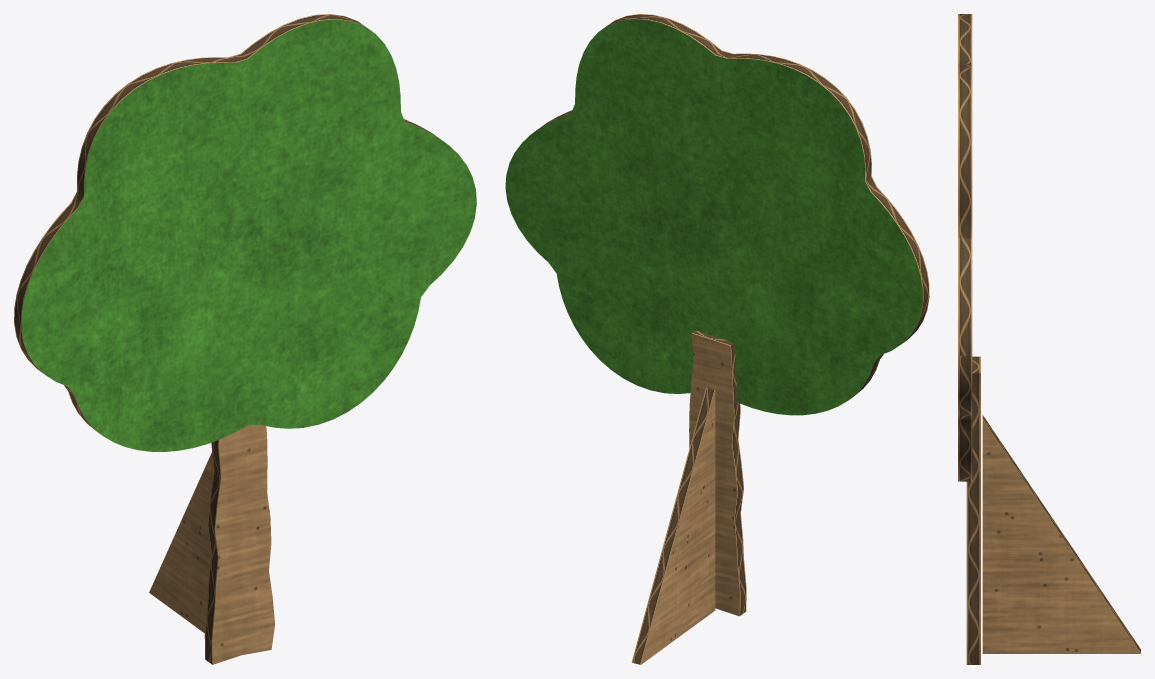
The model's file is tree_cutout_00.gltf.
The picture shows the model from 3 angles, left to right: view 1: azimuth 30°, elevation 25°; view 2: azimuth 150°, elevation 25°; view 3: azimuth 270°, elevation 25°; orthographic projection. The views are drawn at different scales.
Visible parts, largest first — view 1: tree_cutout_00; view 2: tree_cutout_00; view 3: tree_cutout_00.
Part boxes in pixels (box(x1,y1,x2,y2)): tree_cutout_00: box(14, 14, 476, 664); tree_cutout_00: box(505, 14, 929, 664); tree_cutout_00: box(958, 14, 1140, 664).
Bounding box in the file's own units: 1.78 × 2.33 × 0.635.
Materials: 3 (3 with a texture image).
